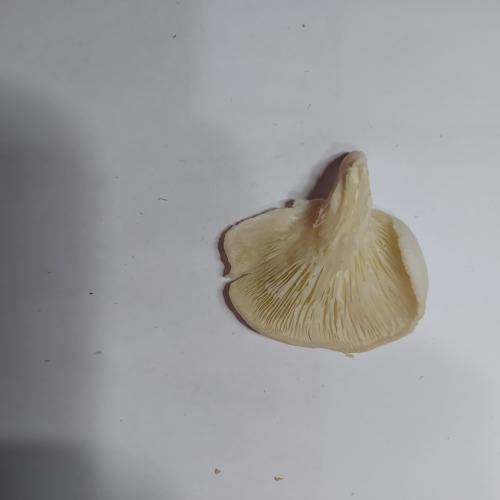Oyster Mushroom: (220, 149, 430, 357)
